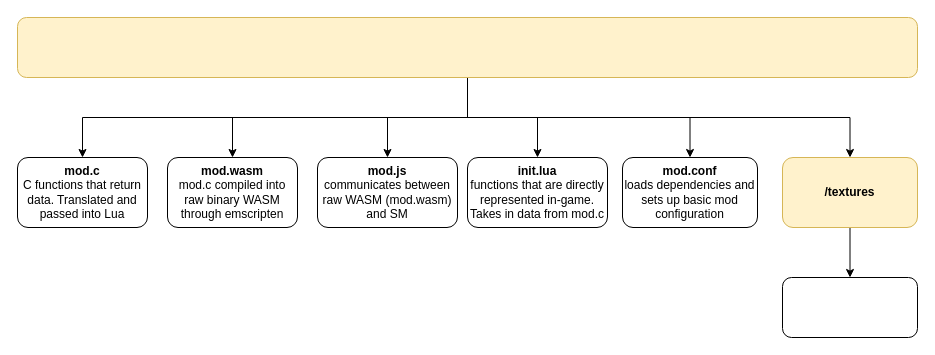
Some shapes in this 935 by 355 pixel diagram are drawn without their labels. The centre of each missing label's shape, as x and y in pixels:
".png files represented in the in-game world" belongs at [850,307].
"/minetest/games /minimal/mods/simple_wasm_mod/" belongs at [467,47].
